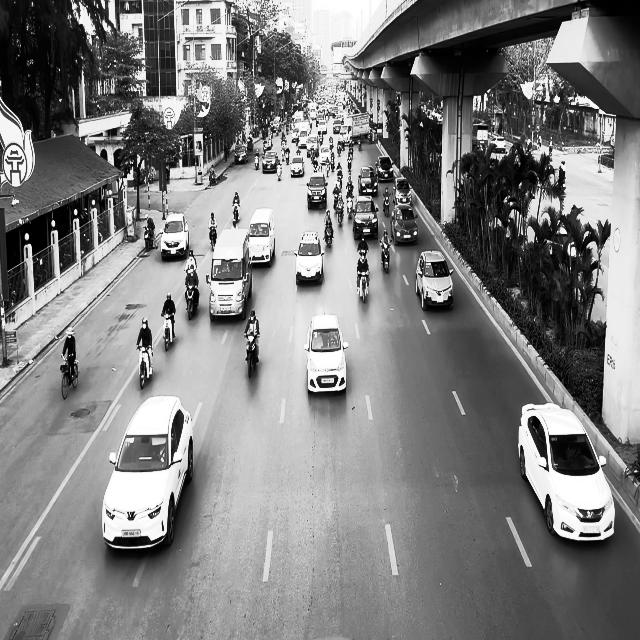car: (102, 395, 194, 551), (517, 402, 615, 543), (304, 311, 348, 394), (415, 250, 454, 311), (248, 207, 276, 267), (294, 230, 324, 285), (160, 212, 189, 260), (390, 204, 418, 245), (352, 196, 378, 240), (306, 173, 328, 209), (234, 144, 248, 164)
motorbike: (60, 356, 79, 400), (137, 343, 153, 389), (244, 332, 259, 377), (161, 310, 175, 351), (184, 280, 198, 320), (356, 269, 369, 302), (380, 240, 391, 273), (144, 224, 157, 251), (232, 199, 240, 225), (324, 225, 333, 248), (209, 226, 217, 251), (382, 194, 390, 216)
